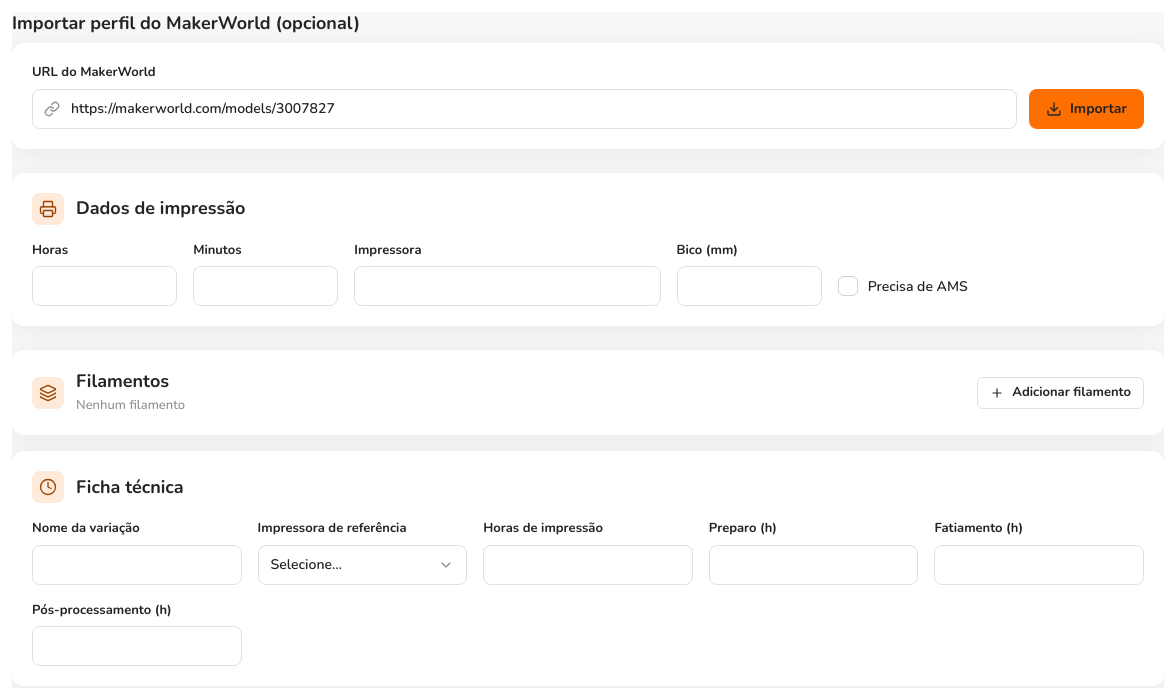
ProductVariantEditor › prefills the tech sheet from the product's MakerWorld profile
Expected: the field labelled "Nome da variação" is shown, [32,545,242,585]
Click the button "Importar": point(1086, 109) [1029,89,1144,129]
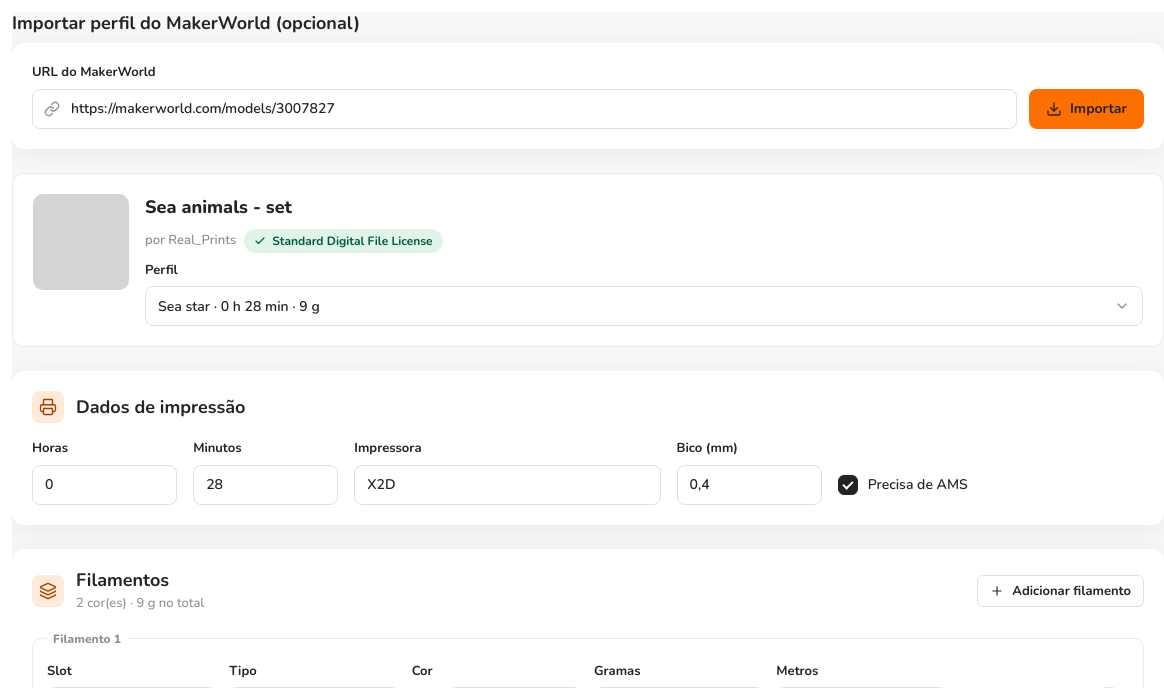
Now the dropdown labelled "Perfil" is shown, box [145,286,1143,326]
